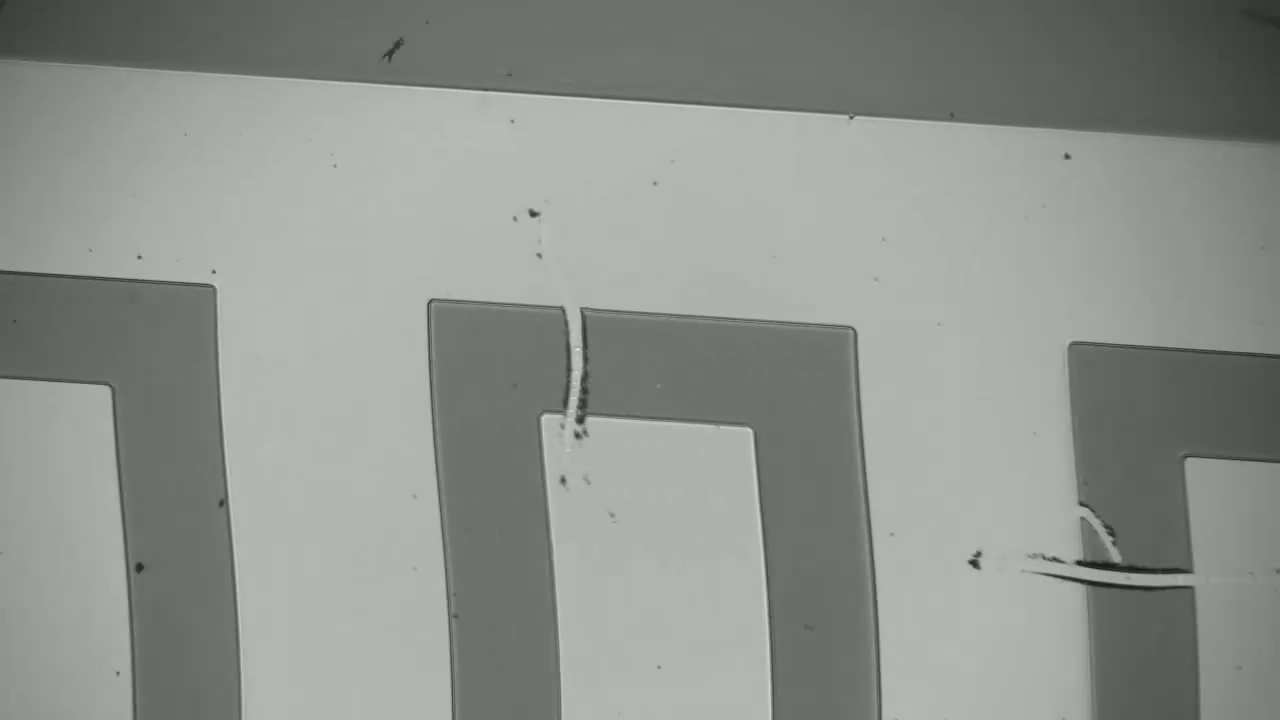Short_circuit: (1039, 545, 1231, 610), (544, 286, 608, 438)
